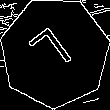L_SE: (28, 23, 81, 82)
